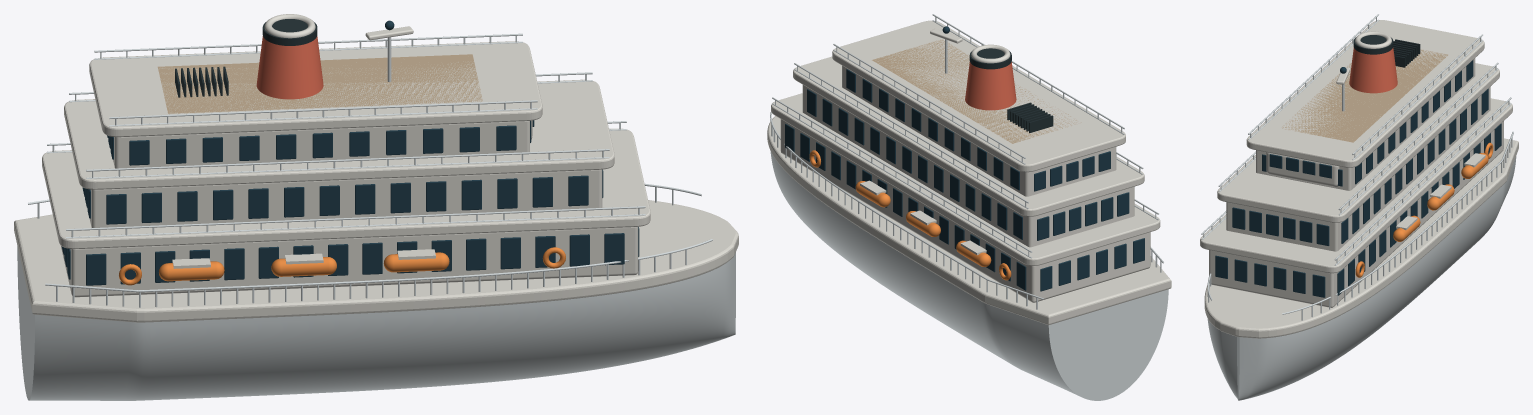
File: CruiseShip.glb
3 views of the same model, side by side, from view 1: azimuth 30°, elevation 25°; view 2: azimuth 150°, elevation 25°; view 3: azimuth 270°, elevation 25° (orthographic). The views are drawn at different scales.
Parts seen in each view (by area): view 1: decks, hull, windows, rails, trim, lifeboats, funnel, vents; view 2: decks, hull, windows, rails, trim, funnel, vents, lifeboats; view 3: decks, hull, windows, rails, trim, funnel, lifeboats, vents.
Boxes of the visible parts, x1,y1,x2,y2 form: decks: (14, 14, 738, 322); hull: (17, 246, 735, 400); windows: (61, 20, 639, 285); rails: (28, 33, 712, 307); trim: (157, 54, 482, 113); lifeboats: (119, 247, 565, 285); funnel: (256, 36, 323, 99); vents: (175, 19, 317, 97); decks: (767, 20, 1171, 325); hull: (770, 151, 1168, 400); windows: (785, 26, 1144, 291); rails: (770, 14, 1163, 309); trim: (872, 39, 1081, 143); funnel: (965, 61, 1016, 110); vents: (969, 48, 1053, 132); lifeboats: (809, 150, 1011, 280); decks: (1200, 20, 1518, 338); hull: (1207, 156, 1516, 400); windows: (1215, 60, 1501, 297); rails: (1201, 14, 1513, 320); trim: (1282, 49, 1447, 142); funnel: (1349, 47, 1397, 93); lifeboats: (1355, 142, 1493, 277); vents: (1353, 35, 1420, 67).
Size of the model in its own units: 8.05 by 4.57 by 5.07.
